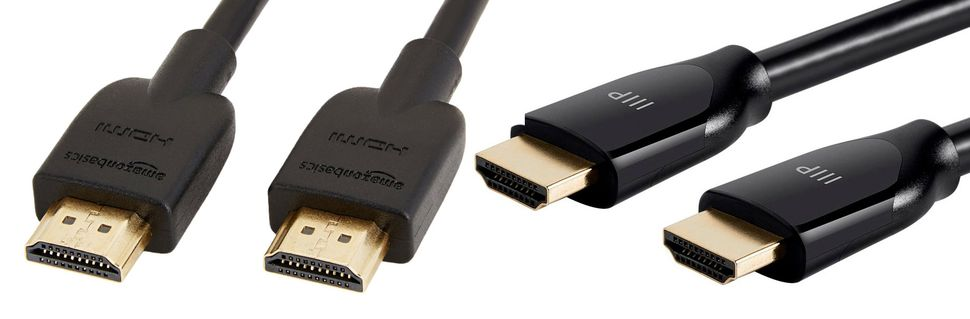Nonrec_Tangler: (10, 18, 952, 298)
